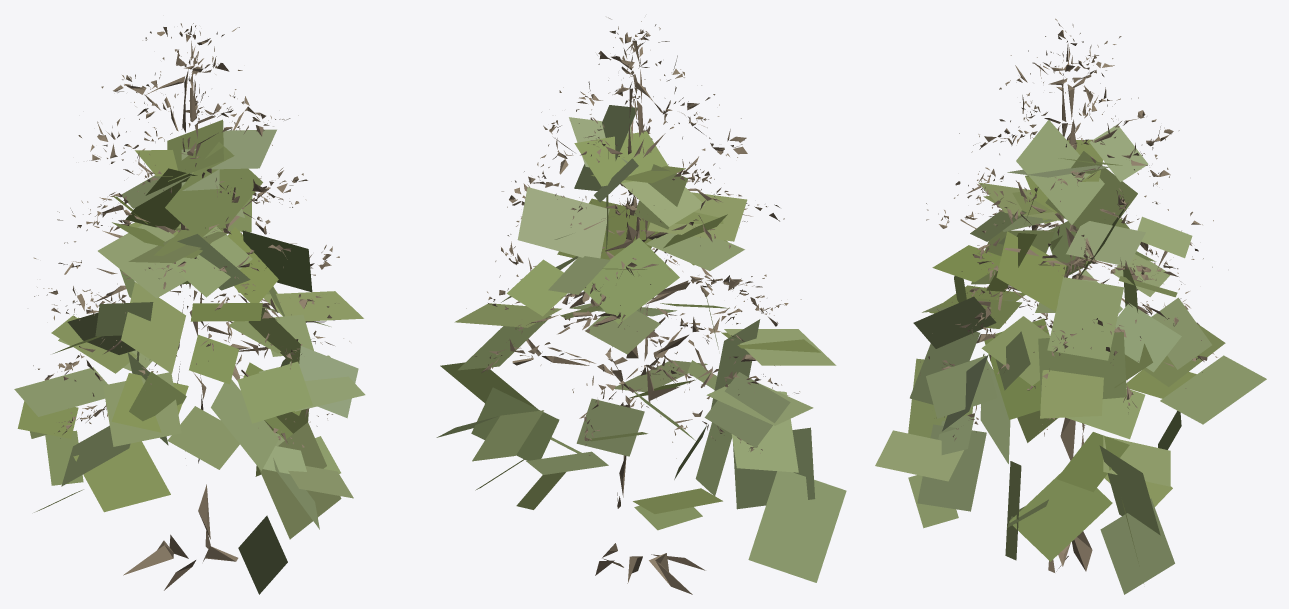
The model's file is tree_large_redwood_b.glb.
3 views of the same model, side by side, from view 1: azimuth 30°, elevation 25°; view 2: azimuth 150°, elevation 25°; view 3: azimuth 270°, elevation 25° (orthographic). The views are drawn at different scales.
Visible parts, largest first — view 1: leaves, wood; view 2: leaves, wood; view 3: leaves, wood.
Part boxes in pixels (x1,y1,x2,y2): leaves: [14, 119, 365, 594]; wood: [33, 23, 349, 590]; leaves: [436, 105, 846, 582]; wood: [466, 17, 801, 594]; leaves: [875, 120, 1266, 594]; wood: [920, 18, 1226, 572].
Size of the model in its own units: 15.97 by 23.9 by 16.14.
